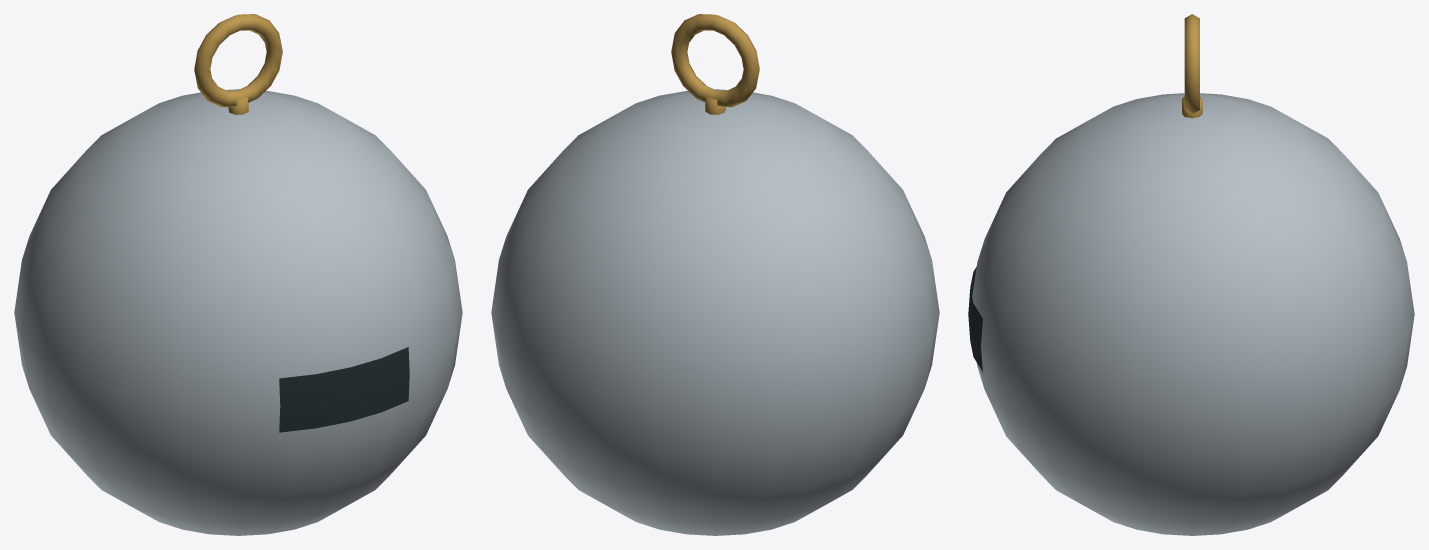
The model's file is VLAB_pendulum.fbx.
The picture shows the model from 3 angles, left to right: view 1: azimuth 30°, elevation 25°; view 2: azimuth 150°, elevation 25°; view 3: azimuth 270°, elevation 25°; orthographic projection.
Parts seen in each view (by area): view 1: VLAB_pendulum_Bob_VIS, VLAB_pendulum_MassLabel_VIS, VLAB_pendulum_Eye_VIS; view 2: VLAB_pendulum_Bob_VIS, VLAB_pendulum_Eye_VIS; view 3: VLAB_pendulum_Bob_VIS, VLAB_pendulum_Eye_VIS, VLAB_pendulum_MassLabel_VIS.
Boxes of the visible parts, x1,y1,x2,y2 form: VLAB_pendulum_Bob_VIS: (14,89,462,535); VLAB_pendulum_MassLabel_VIS: (279,347,409,432); VLAB_pendulum_Eye_VIS: (194,14,282,114); VLAB_pendulum_Bob_VIS: (491,89,939,535); VLAB_pendulum_Eye_VIS: (671,14,759,114); VLAB_pendulum_Bob_VIS: (972,93,1414,535); VLAB_pendulum_Eye_VIS: (1182,14,1202,118); VLAB_pendulum_MassLabel_VIS: (968,267,982,371).
Bounding box in the file's own units: 0.03 × 0.037 × 0.0301.
